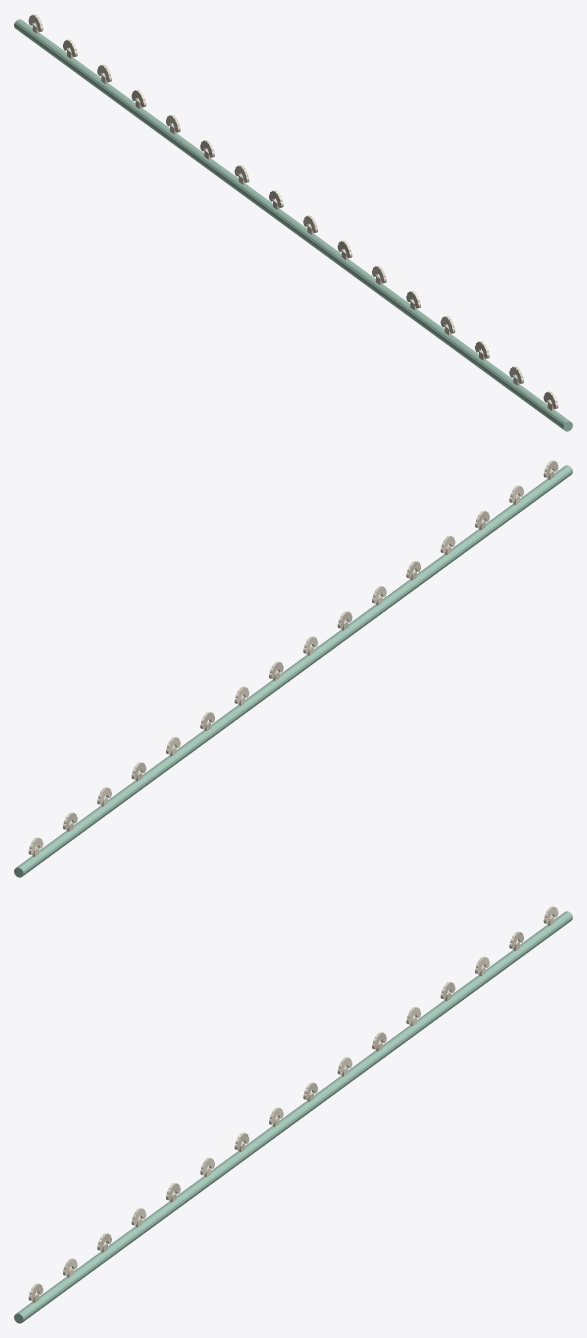
The model's file is ridge.glb.
The picture shows the model from 3 angles, top to bottom: view 1: azimuth 30°, elevation 25°; view 2: azimuth 150°, elevation 25°; view 3: azimuth 330°, elevation 25°; orthographic projection.
Visible parts, largest first — view 1: ridge_patina, ridge_carve; view 2: ridge_patina, ridge_carve; view 3: ridge_patina, ridge_carve.
Boxes of the visible parts, x1,y1,x2,y2 form: ridge_patina: (14,19,572,431); ridge_carve: (28,14,558,410); ridge_patina: (14,465,572,877); ridge_carve: (28,460,558,856); ridge_patina: (14,911,572,1323); ridge_carve: (28,906,558,1302).
Bounding box in the file's own units: 0.16 × 0.423 × 16.
Materials: 2 (1 with a texture image).
